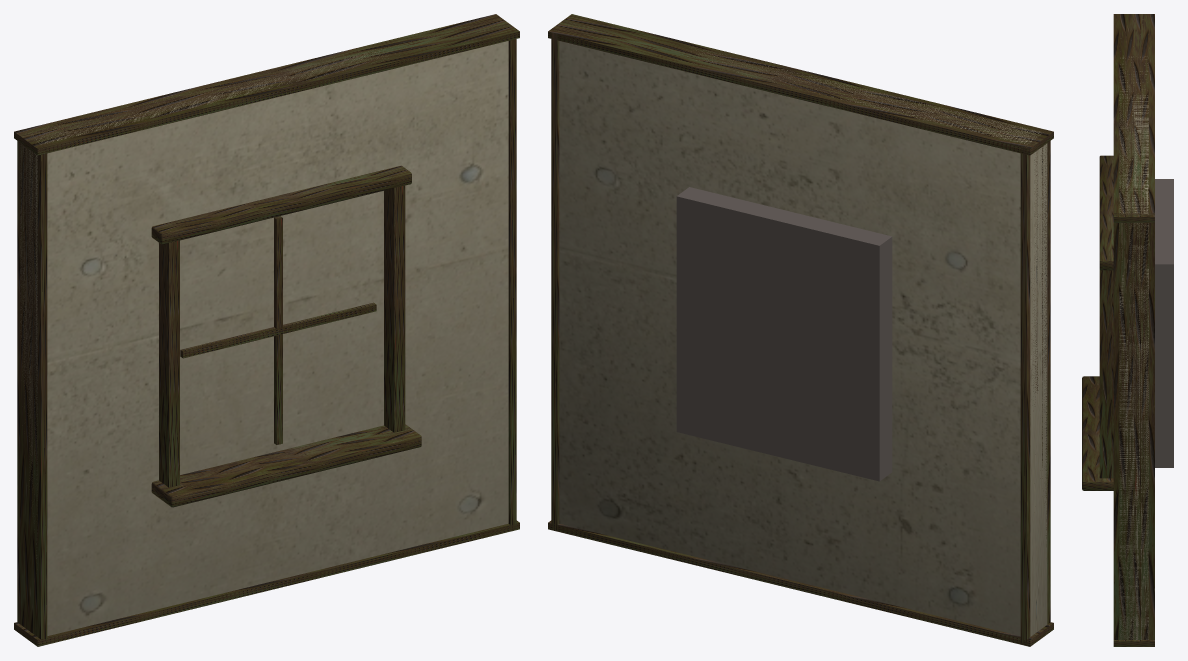
File: panel_wall.glb
3 views of the same model, side by side, from view 1: azimuth 30°, elevation 25°; view 2: azimuth 150°, elevation 25°; view 3: azimuth 270°, elevation 25° (orthographic). The views are drawn at different scales.
Visible parts, largest first — view 1: slab, jointW, jointS, sill, lintel, jambR, jambL, jointN, jointE, mullV, mullH; view 2: slab, room, jointS, jointW, jointN, jointE; view 3: jointE, jointS, slab, room, jambR, sill, lintel, jointN.
Boxes of the visible parts, x1,y1,x2,y2 form: slab: [20, 41, 508, 635]; jointW: [17, 132, 47, 640]; jointS: [14, 14, 519, 155]; sill: [151, 424, 421, 507]; lintel: [151, 165, 411, 244]; jambR: [384, 185, 405, 432]; jambL: [159, 240, 179, 487]; jointN: [14, 520, 519, 646]; jointE: [508, 39, 516, 530]; mullV: [274, 216, 282, 444]; mullH: [180, 302, 376, 358]; slab: [559, 41, 1047, 636]; room: [676, 187, 892, 481]; jointS: [548, 14, 1053, 155]; jointW: [1020, 129, 1050, 644]; jointN: [548, 520, 1053, 646]; jointE: [551, 32, 559, 531]; jointE: [1113, 213, 1154, 639]; jointS: [1113, 14, 1154, 222]; slab: [1119, 56, 1148, 639]; room: [1155, 179, 1173, 467]; jambR: [1099, 270, 1113, 478]; sill: [1082, 376, 1113, 490]; lintel: [1099, 155, 1113, 270]; jointN: [1113, 640, 1154, 646].
Bounding box in the file's own units: 3.04 × 3 × 0.58.
Materials: 4 (2 with a texture image).
